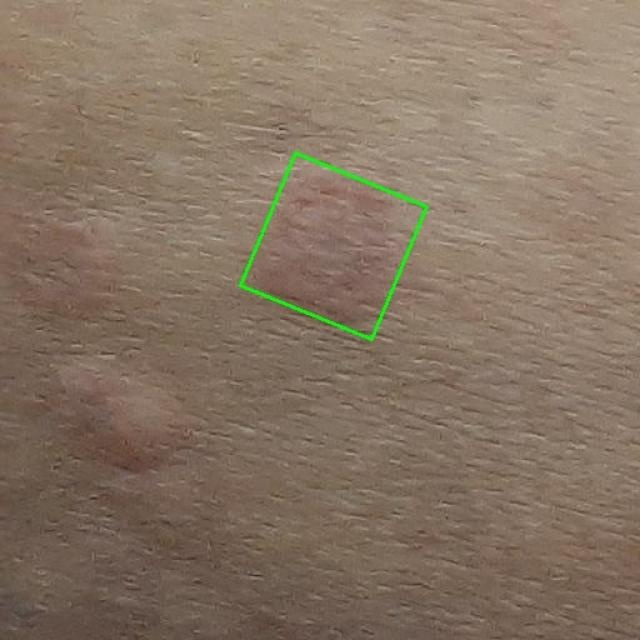Tinea Corporis: (241, 153, 427, 339)
